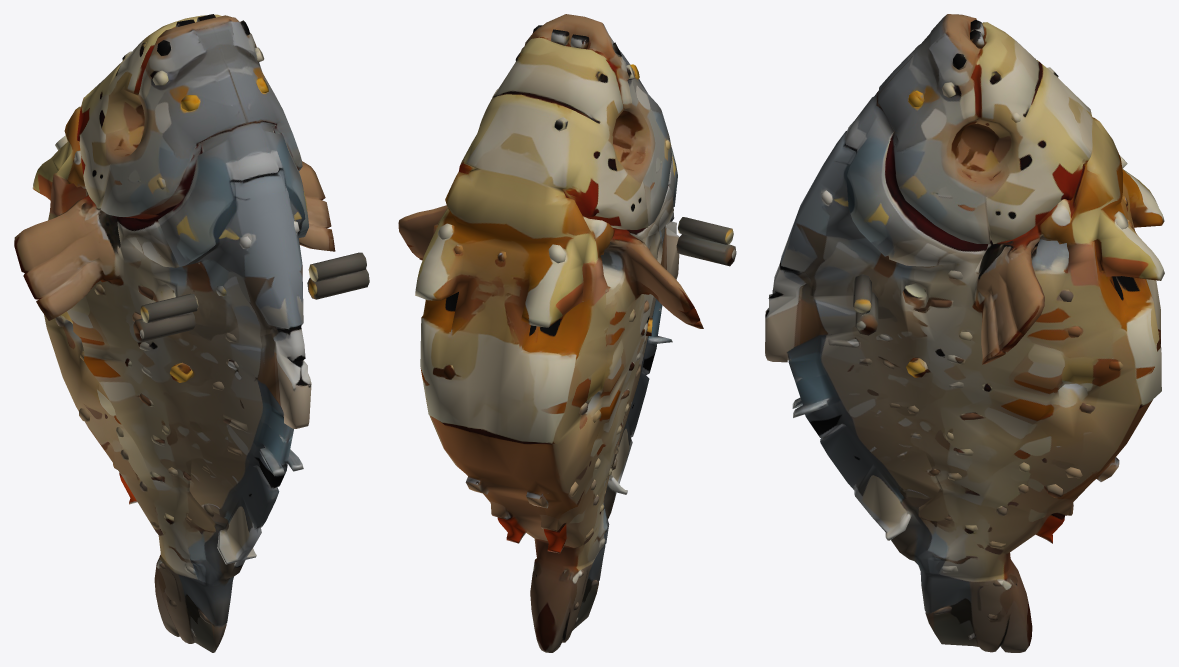
The model's file is fish-rot.glb.
3 renders of one model, left to right at view 1: azimuth 30°, elevation 25°; view 2: azimuth 150°, elevation 25°; view 3: azimuth 270°, elevation 25°, orthographic. The views are drawn at different scales.
Visible parts, largest first — view 1: tripo_node_fd779f0e-47bf-4eff-a7b3-5cc8008b9e95; view 2: tripo_node_fd779f0e-47bf-4eff-a7b3-5cc8008b9e95; view 3: tripo_node_fd779f0e-47bf-4eff-a7b3-5cc8008b9e95.
Part boxes in pixels (x1,y1,x2,y2): tripo_node_fd779f0e-47bf-4eff-a7b3-5cc8008b9e95: [14, 14, 369, 652]; tripo_node_fd779f0e-47bf-4eff-a7b3-5cc8008b9e95: [398, 14, 736, 652]; tripo_node_fd779f0e-47bf-4eff-a7b3-5cc8008b9e95: [765, 14, 1164, 652].
Bounding box in the file's own units: 0.4976 × 0.9995 × 0.5747.
Materials: 1 (1 with a texture image).
